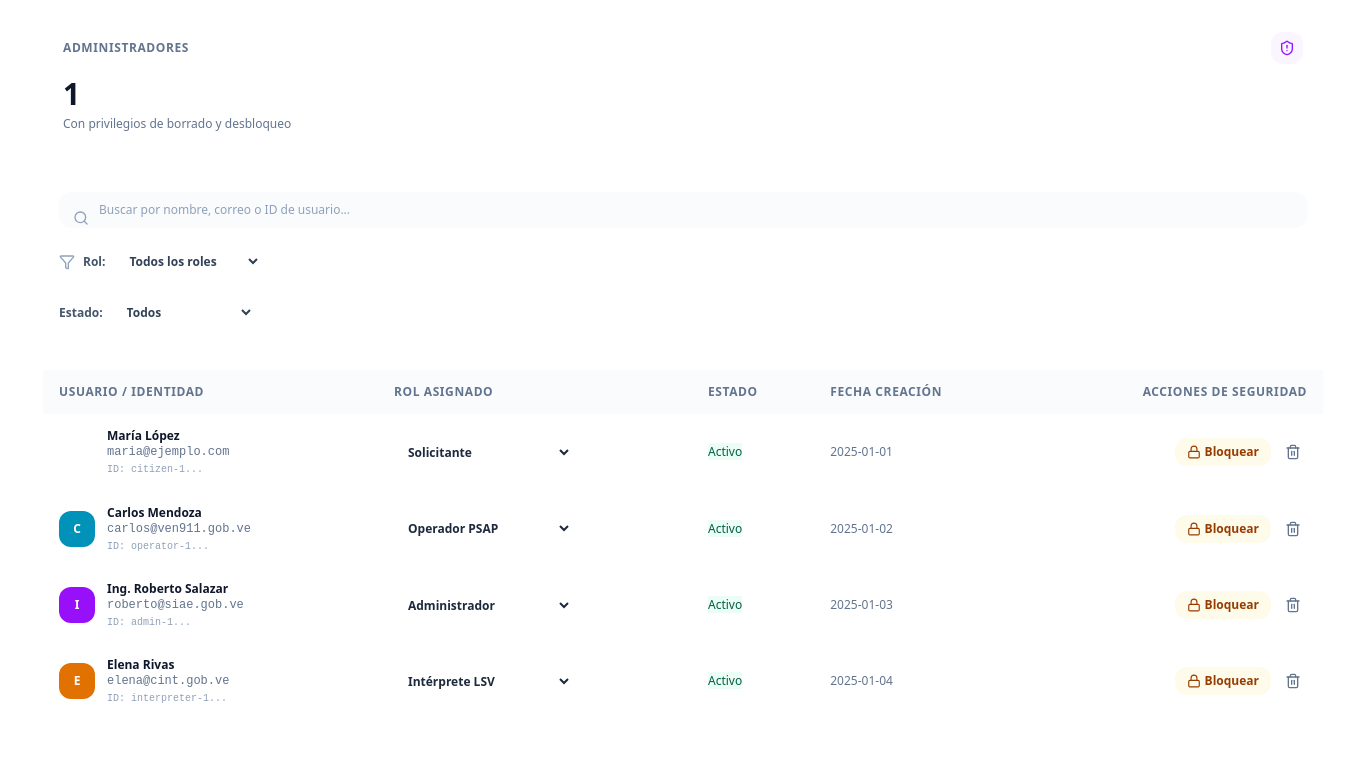
it: Admin Users Page UI Component › shows confirmation modal before deleting user
(page scrolled)
Expected: the text "María López" is shown, [107,427,180,444]
Click the button named "eliminar cuenta de maría lópez". click: coordinates (1293, 452)
box: [1279,438,1307,466]
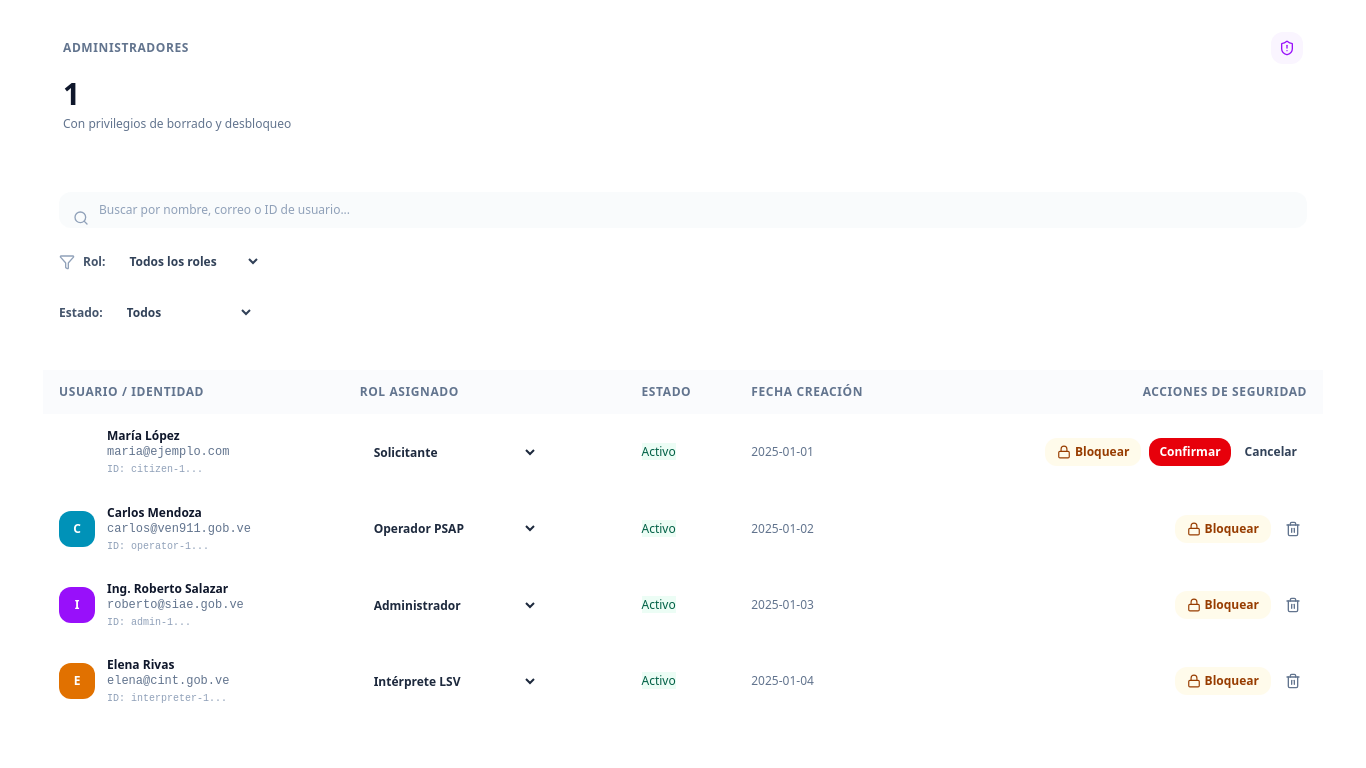
Now the button with aria-label "confirmar eliminación definitiva de maría lópez" is shown
Click the button with aria-label "confirmar eliminación definitiva de maría lópez". click: coordinates (1190, 452)
box: [1149,438,1231,466]
(page scrolled)
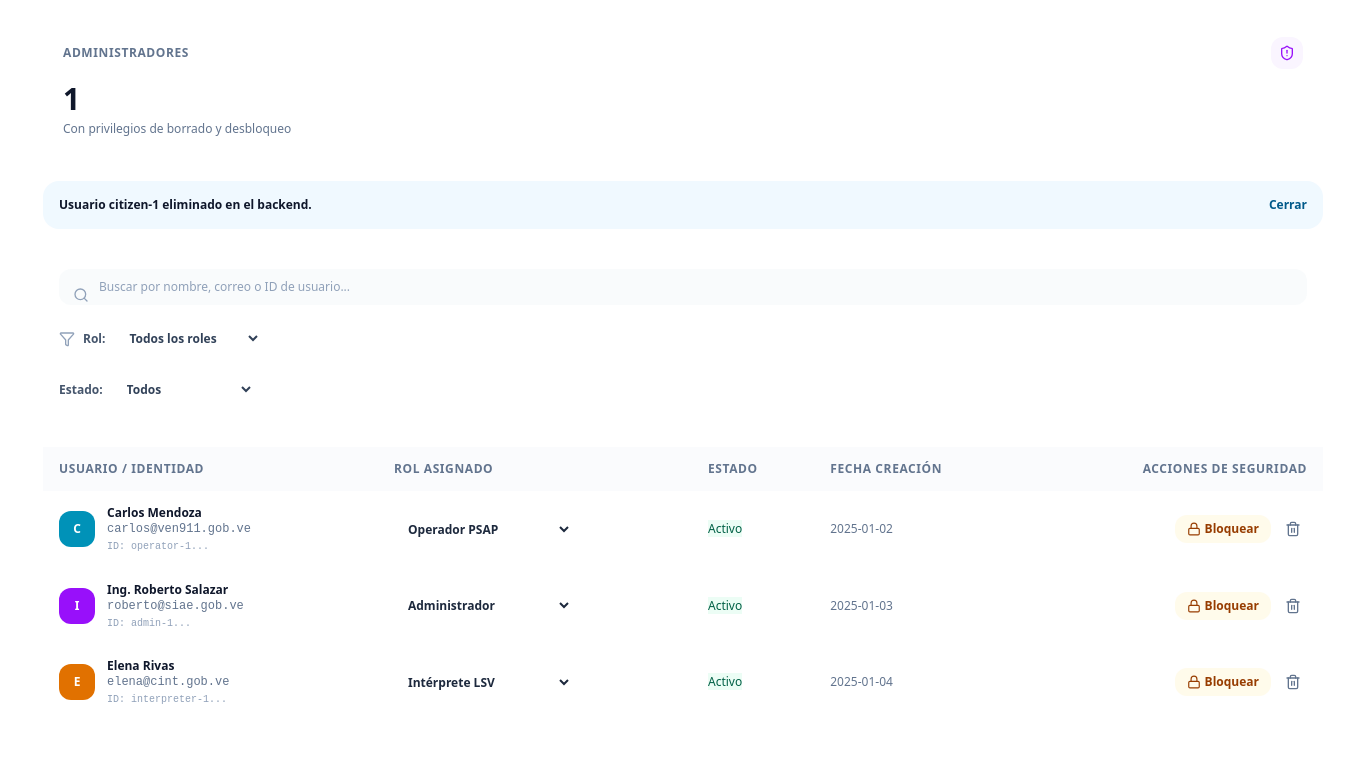
Now the text "María López" is gone
